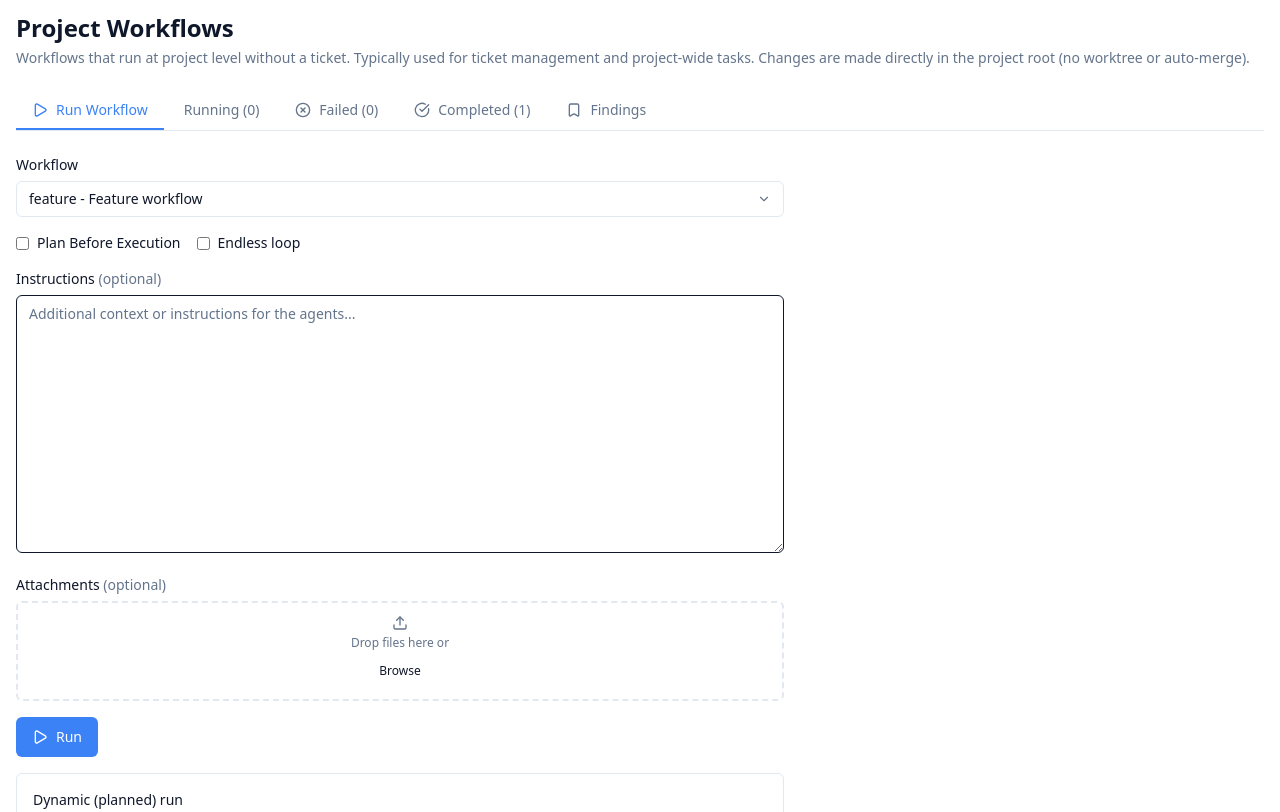
Test: ProjectWorkflowsPage — Failed tab and delete › Delete button in instance table › shows trash icon in completed tab table row
The image size is (1280, 812).
Click the button "Completed (1)". click: coordinates (472, 111)
box: [398, 92, 546, 130]
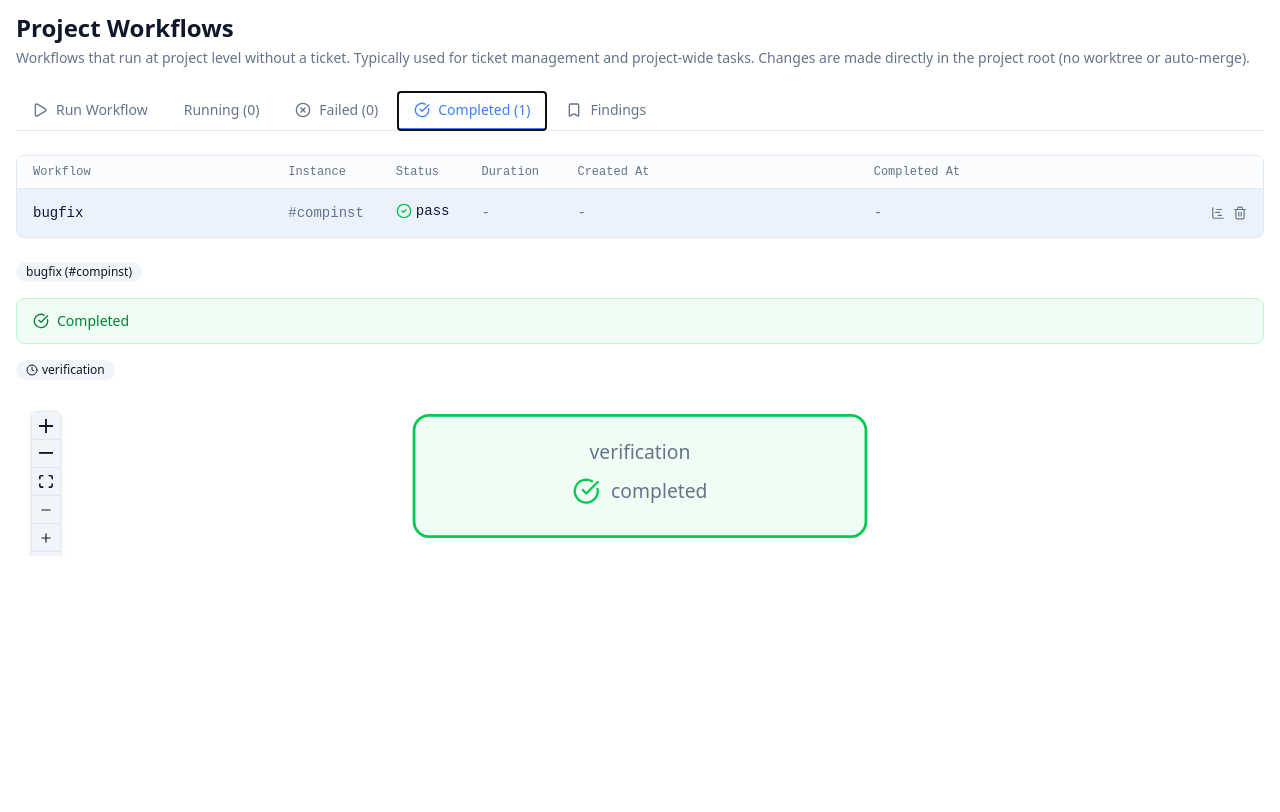
Result: the button named "Delete instance" is shown at [1233, 206, 1247, 220]
